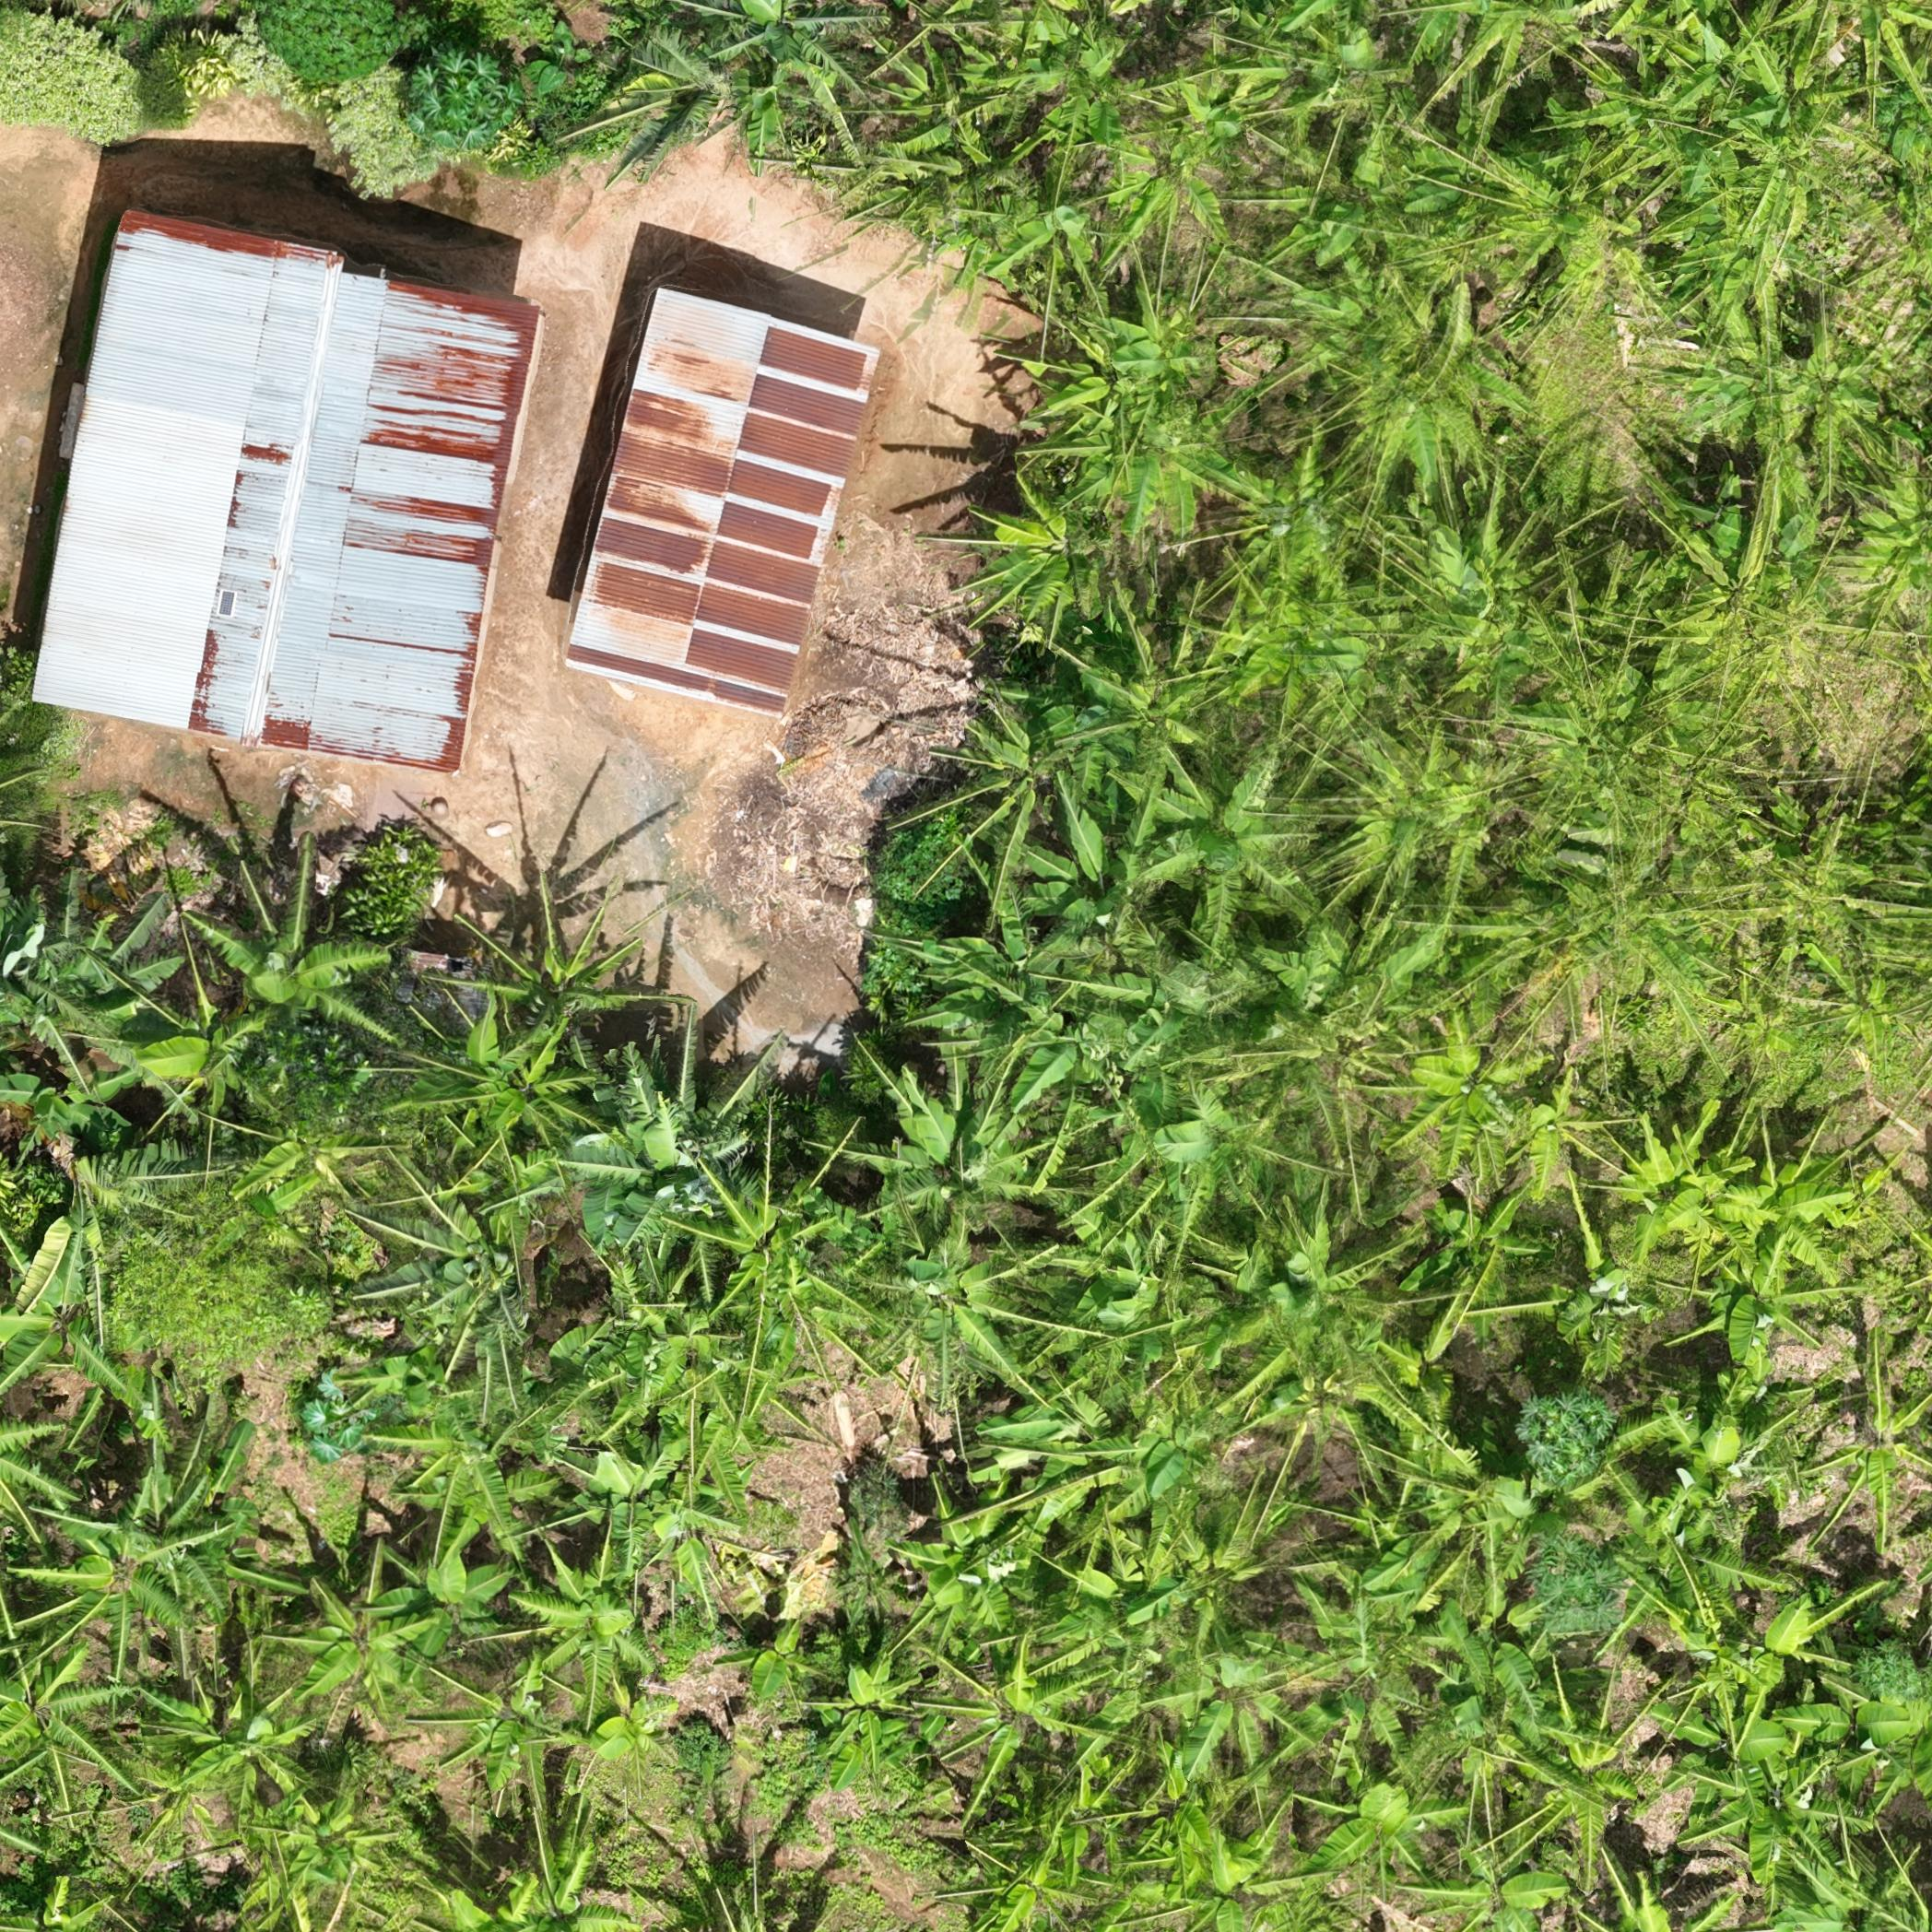Banana: (23, 1118, 161, 1295), (1244, 971, 1401, 1125), (1063, 1221, 1221, 1371), (1346, 318, 1507, 465), (1543, 860, 1695, 1012), (888, 1086, 1037, 1242), (1527, 672, 1668, 828), (589, 1069, 727, 1221), (870, 1244, 1021, 1382), (1525, 1693, 1656, 1851), (1346, 740, 1484, 883), (1224, 456, 1368, 591), (1152, 787, 1293, 922), (393, 1178, 534, 1311), (686, 1178, 826, 1311), (1421, 522, 1552, 662), (136, 987, 281, 1113), (1230, 571, 1362, 708), (996, 977, 1129, 1113), (939, 1652, 1072, 1787), (1028, 823, 1164, 954), (1237, 1226, 1368, 1362), (1408, 1424, 1525, 1576), (1304, 1614, 1422, 1753), (1164, 1637, 1288, 1769), (1656, 1378, 1783, 1506), (211, 913, 345, 1028), (1493, 150, 1622, 269), (168, 1691, 297, 1808), (902, 1499, 1024, 1619), (1575, 60, 1698, 179), (1693, 198, 1813, 318), (1734, 575, 1859, 690), (412, 1394, 525, 1522), (1812, 947, 1916, 1083), (495, 932, 612, 1053), (1076, 402, 1201, 511), (1141, 1083, 1269, 1191), (1737, 48, 1854, 165), (1090, 653, 1214, 763), (1297, 138, 1417, 249), (1322, 1771, 1437, 1886), (637, 25, 745, 147), (1550, 1231, 1652, 1359), (303, 1580, 414, 1697), (64, 1523, 182, 1633), (441, 1672, 552, 1787), (1267, 1341, 1384, 1451), (1410, 1030, 1520, 1145), (1730, 119, 1836, 237), (1672, 518, 1773, 642), (1829, 1382, 1927, 1509), (249, 1095, 354, 1214), (111, 1502, 232, 1605), (982, 492, 1095, 598), (469, 1024, 571, 1141), (1145, 1522, 1253, 1631), (527, 1573, 646, 1672), (1440, 2, 1594, 78), (1001, 166, 1100, 283), (1021, 318, 1141, 414), (1732, 1169, 1840, 1276), (1435, 1831, 1550, 1930), (1421, 1194, 1523, 1304), (1507, 1074, 1599, 1196), (973, 709, 1081, 809), (1118, 129, 1217, 232), (1675, 1697, 1773, 1801), (1720, 1764, 1822, 1861), (393, 1557, 497, 1651), (1663, 18, 1769, 110), (5, 1654, 92, 1766), (1713, 1256, 1817, 1348), (648, 1484, 736, 1592), (564, 1449, 662, 1546), (901, 67, 1003, 159), (1131, 1394, 1217, 1502), (1725, 1599, 1822, 1695), (1805, 1681, 1900, 1778), (274, 1792, 372, 1888), (980, 1844, 1085, 1930), (1180, 1838, 1277, 1930), (1783, 336, 1870, 439), (1460, 1580, 1543, 1686), (1030, 11, 1120, 108), (1118, 297, 1210, 387), (1672, 1152, 1757, 1246), (1624, 1136, 1700, 1237), (1805, 1854, 1904, 1930), (736, 5, 835, 78), (502, 1861, 605, 1930), (591, 1691, 672, 1771), (136, 1760, 212, 1842), (807, 1709, 890, 1782), (738, 1624, 816, 1697), (828, 1668, 899, 1729)
